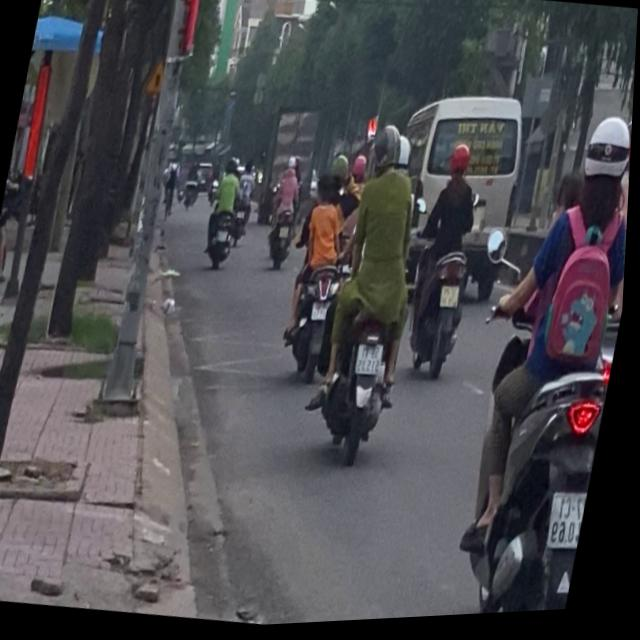helmet: (580, 116, 634, 206), (373, 126, 407, 178), (450, 144, 477, 185), (396, 136, 418, 175), (332, 155, 358, 187)
licenseplate: (441, 106, 635, 621), (304, 121, 448, 473), (402, 141, 497, 385), (277, 149, 368, 388)
motorcyclist: (314, 173, 342, 211)
nohelmet: (553, 496, 592, 556), (359, 345, 390, 379), (443, 290, 465, 314), (313, 302, 335, 325)
